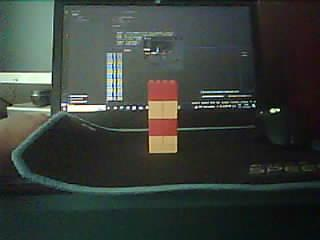lego: (147, 79, 179, 154)
